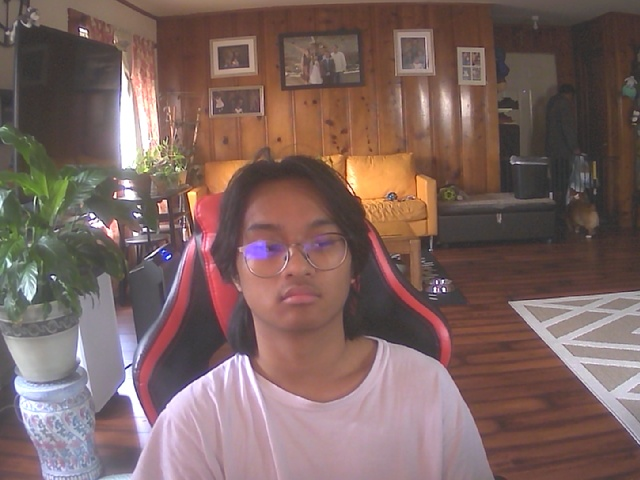neutral: (231, 166, 358, 334)
